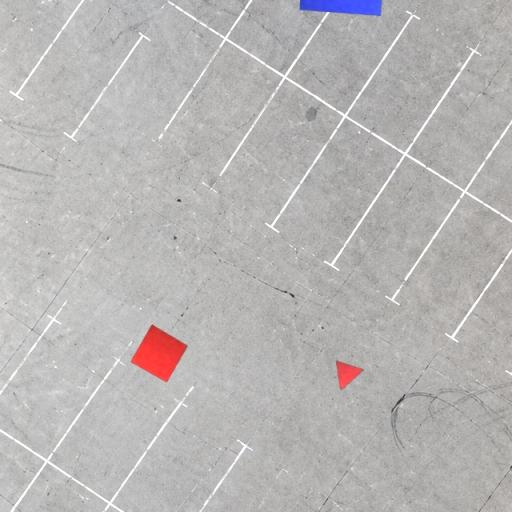RED_SQUARE: (130, 324, 189, 383)
